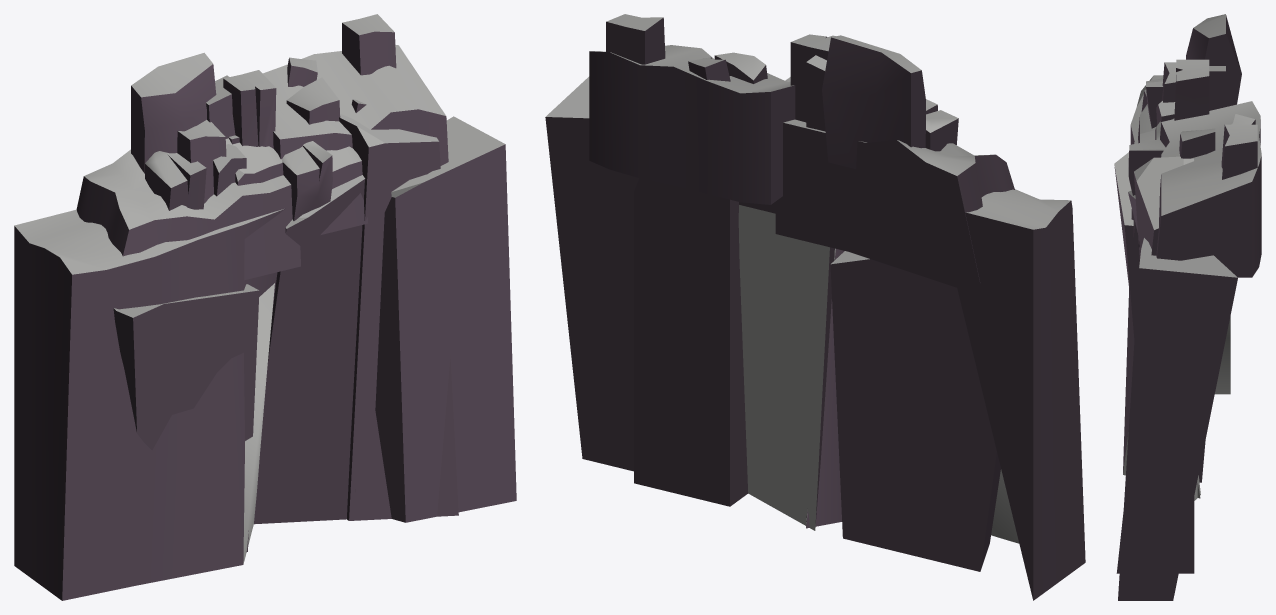
File: env01_cliff01.FBX
3 renders of one model, left to right at view 1: azimuth 30°, elevation 25°; view 2: azimuth 150°, elevation 25°; view 3: azimuth 270°, elevation 25°, orthographic. The views are drawn at different scales.
Parts seen in each view (by area): view 1: env01_cliff01; view 2: env01_cliff01; view 3: env01_cliff01.
Part boxes in pixels (box(x1,y1,x2,y2)): env01_cliff01: box(14, 14, 516, 600); env01_cliff01: box(545, 14, 1085, 600); env01_cliff01: box(1114, 14, 1261, 600).
Bounding box in the file's own units: 969 × 980 × 292.
